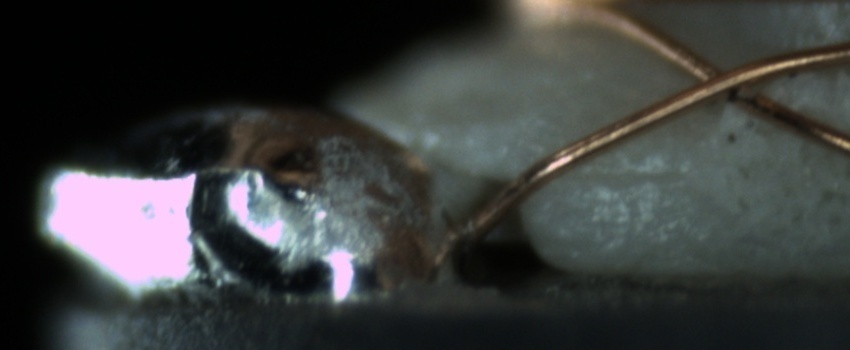CL: (676, 48, 777, 118)
DL: (568, 143, 689, 202)
